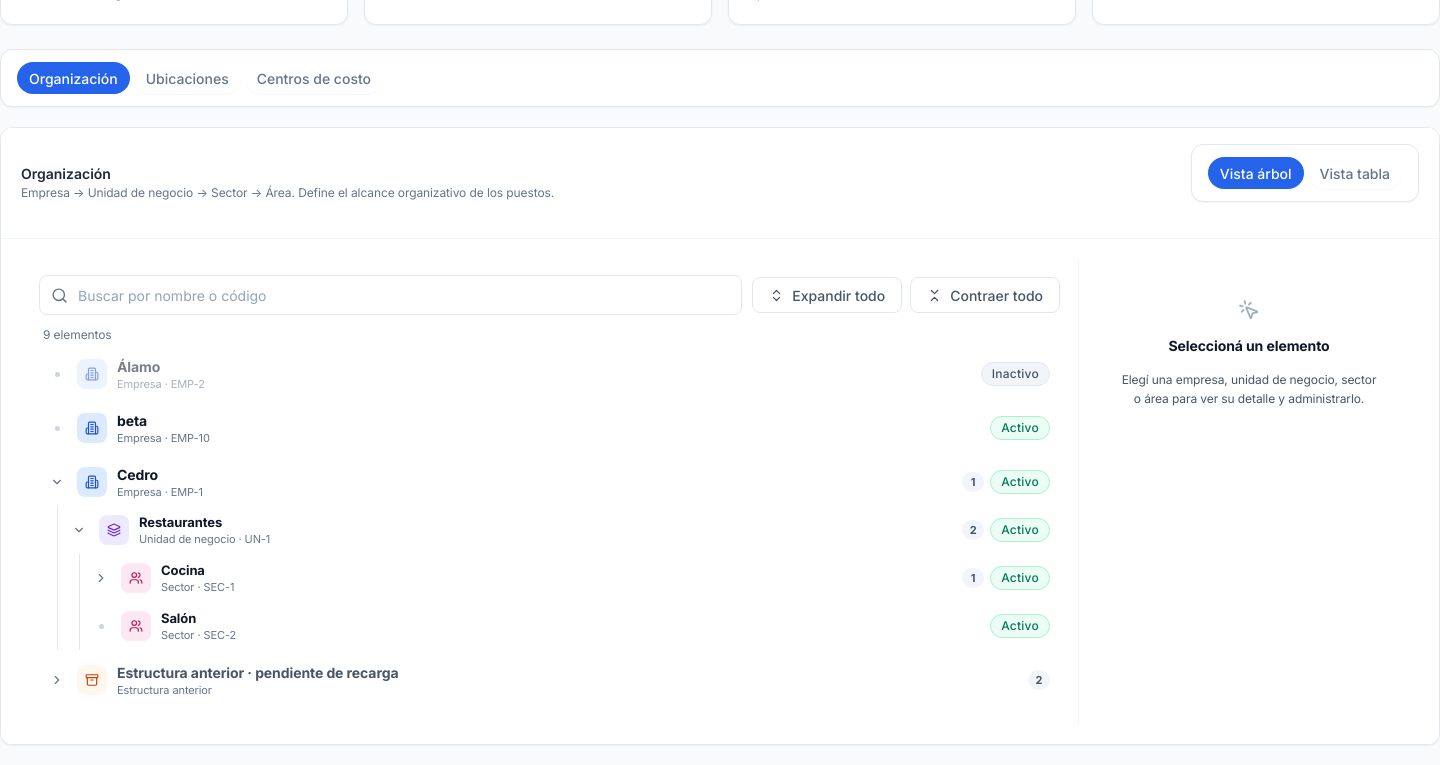
Test: OrgStructurePage — padres del modelo nuevo y restricciones de transición › Agregar sector desde una unidad de negocio precarga ese padre
This screenshot has width=1440, height=765.
(page scrolled)
What coordinates should you click on to do the following:
click the text "Restaurantes"
I would click on:
 (181, 522)
Its box is 139,514 -> 222,530.
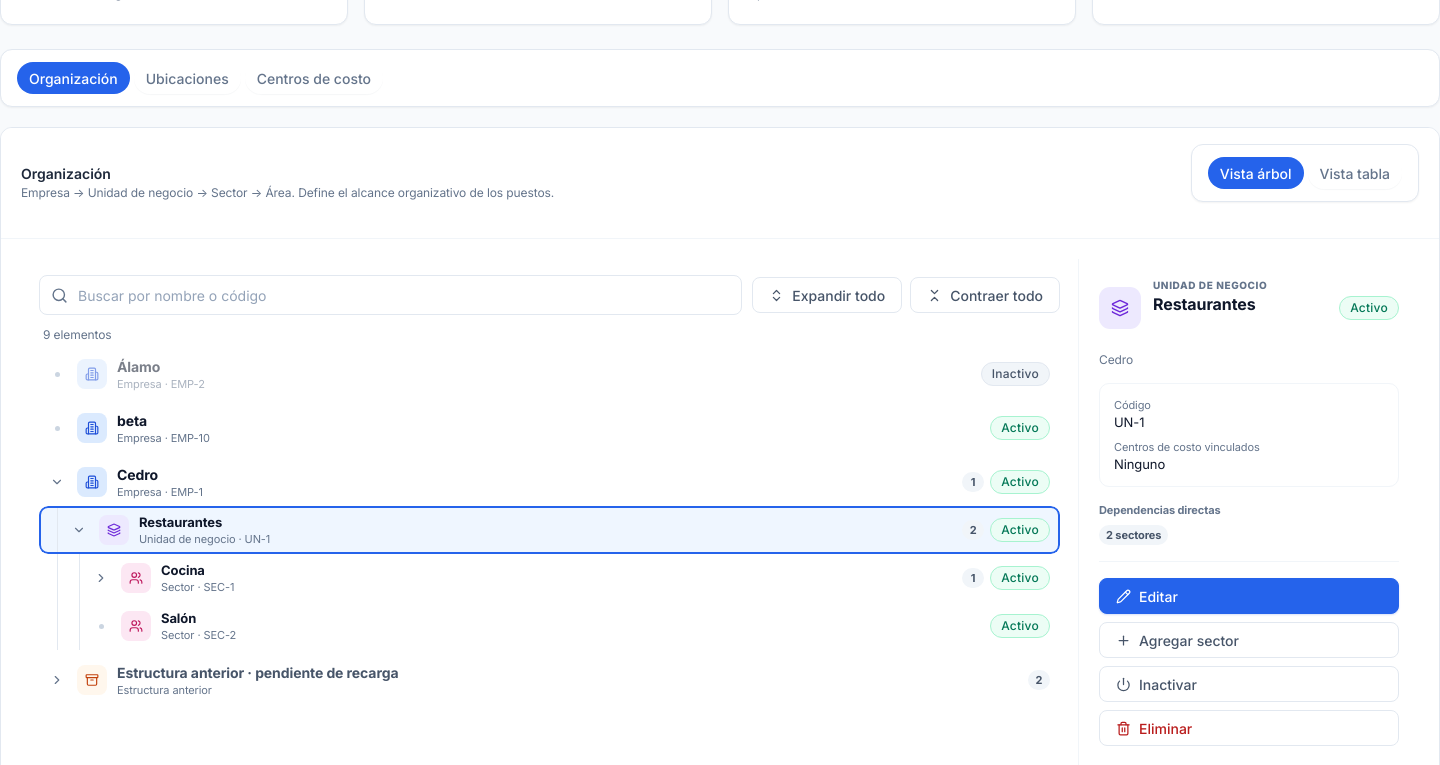
What coordinates should you click on to do the following:
click the button "Agregar sector"
I would click on:
 (1168, 640)
Its box is 1099,622 -> 1399,658.
(page scrolled)
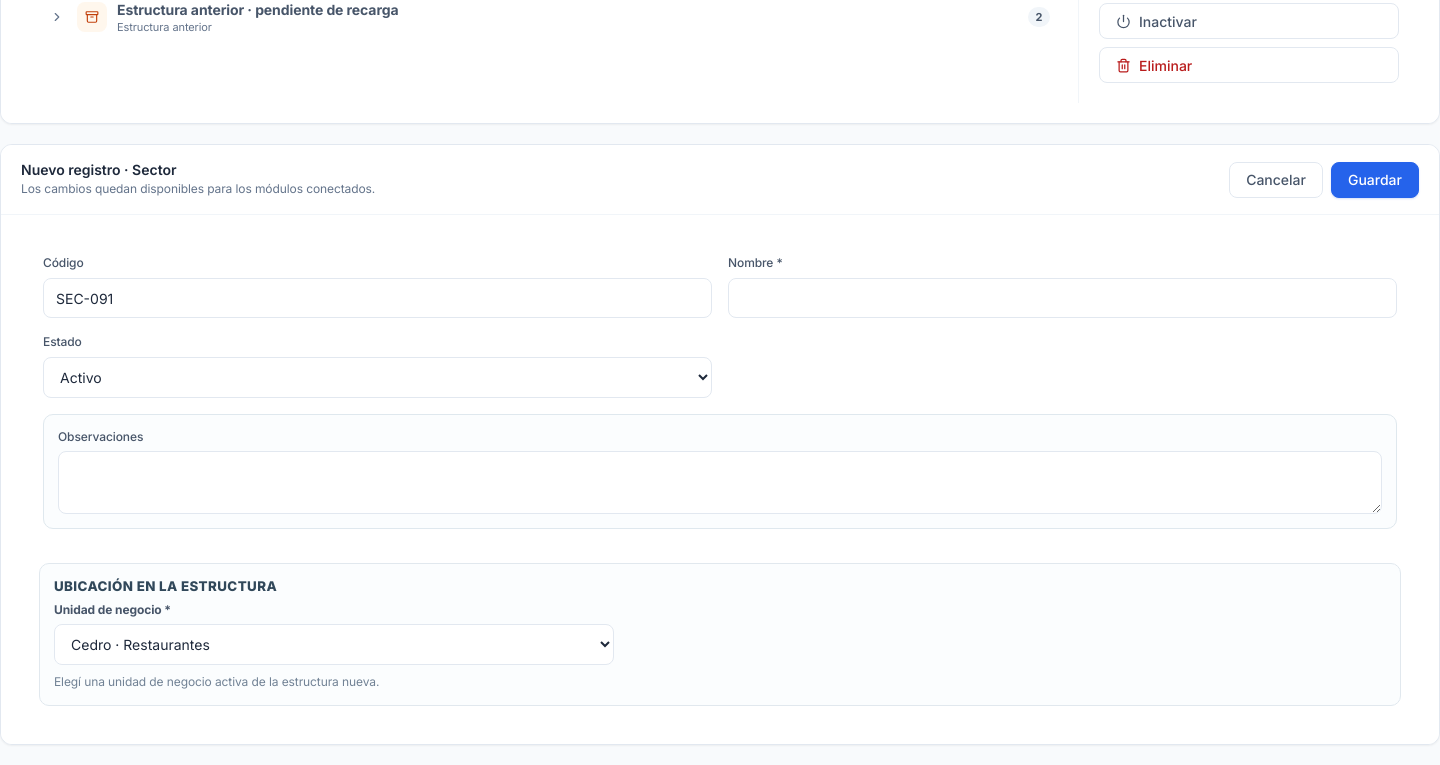
Check: the heading "Nuevo registro · Sector" is shown, box 21,161 -> 176,178
Check: the dropdown labelled "Unidad de negocio *" shows "Cedro · Restaurantes", box 54,624 -> 614,665
